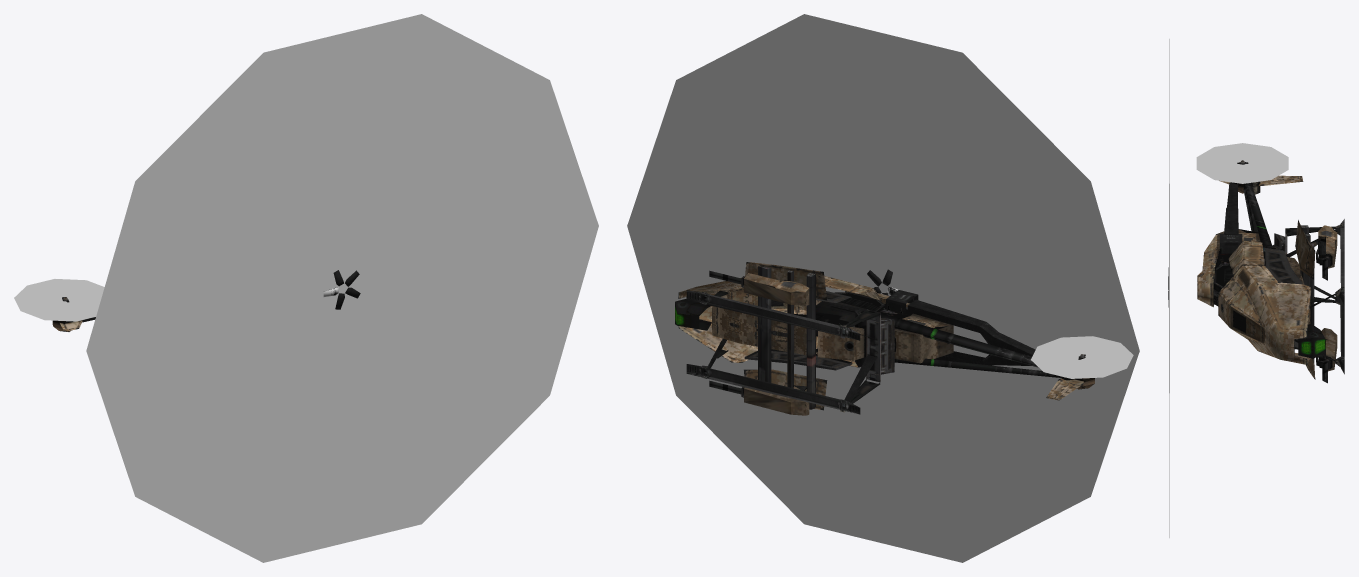
The model's file is veh_t6_drone_overwatch_light_LOD2.obj.
3 renders of one model, left to right at view 1: azimuth 30°, elevation 25°; view 2: azimuth 150°, elevation 25°; view 3: azimuth 270°, elevation 25°, orthographic. The views are drawn at different scales.
Parts seen in each view (by area): view 1: mtl_mh_6_little_bird_blade_spin, mtl_drone_overwatch_body; view 2: mtl_mh_6_little_bird_blade_spin, mtl_drone_overwatch_body; view 3: mtl_drone_overwatch_body, mtl_mh_6_little_bird_blade_spin.
Part boxes in pixels (x1,y1,x2,y2): mtl_mh_6_little_bird_blade_spin: (14, 14, 598, 562); mtl_drone_overwatch_body: (52, 270, 360, 331); mtl_mh_6_little_bird_blade_spin: (627, 14, 1139, 562); mtl_drone_overwatch_body: (675, 262, 1094, 415); mtl_drone_overwatch_body: (1168, 160, 1344, 383); mtl_mh_6_little_bird_blade_spin: (1169, 39, 1288, 537).
Bounding box in the file's own units: 753 × 681 × 228.
